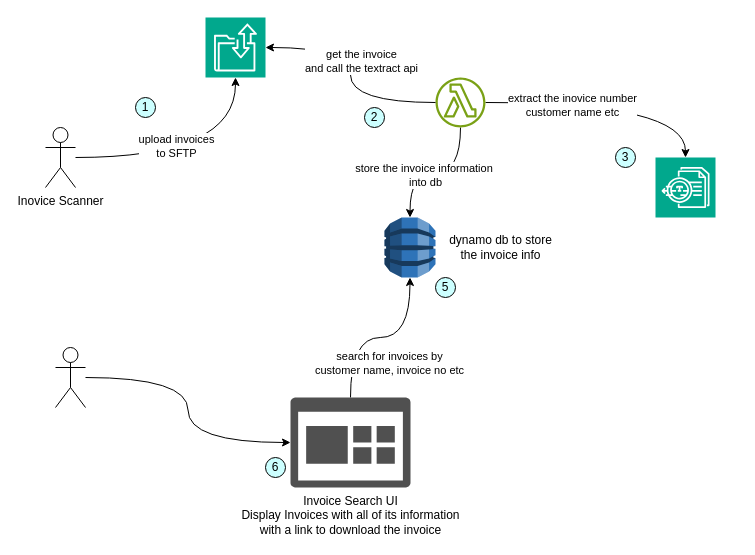
The diagram is 755 pixels wide and 555 high, and some of its shapes have lost their labels. Here are the shapes that lost their labels. From the top down, the centre of each, then its label:
(x=235, y=47): AWS SFTP
(x=685, y=187): Invoice Textract API
(x=70, y=377): Woolco Foods user
